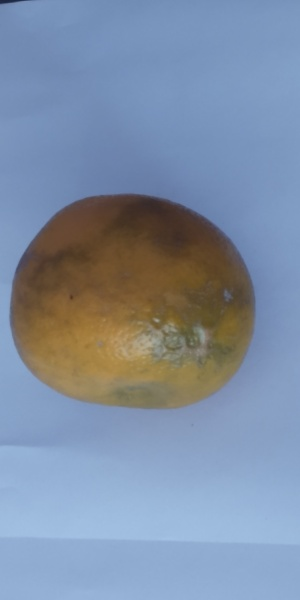BAD: (14, 194, 254, 409)
